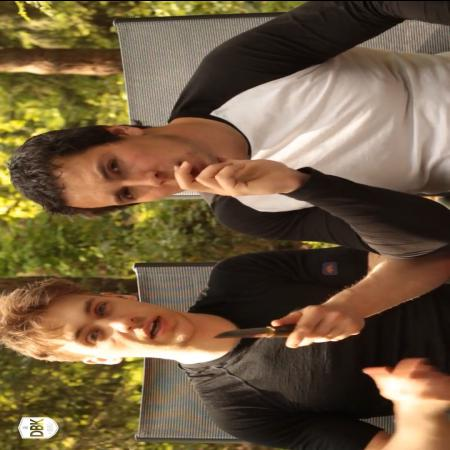long weapon: (200, 302, 338, 358)
